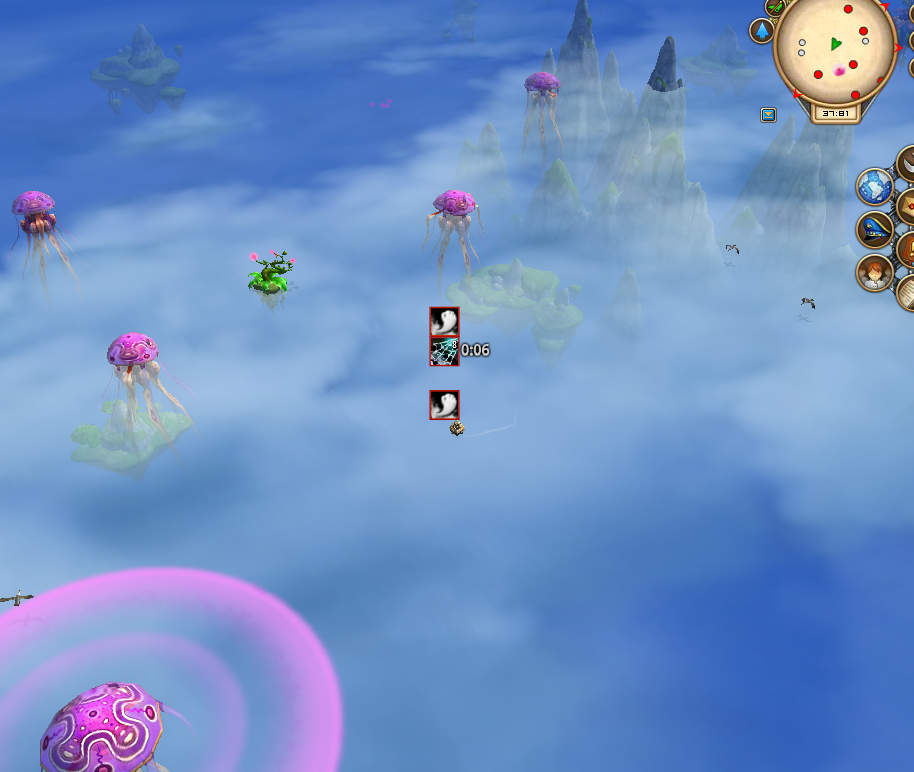dandelion-full: (240, 239, 299, 308)
